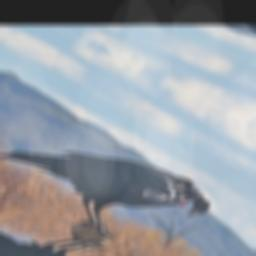Crow: (0, 104, 223, 256)
